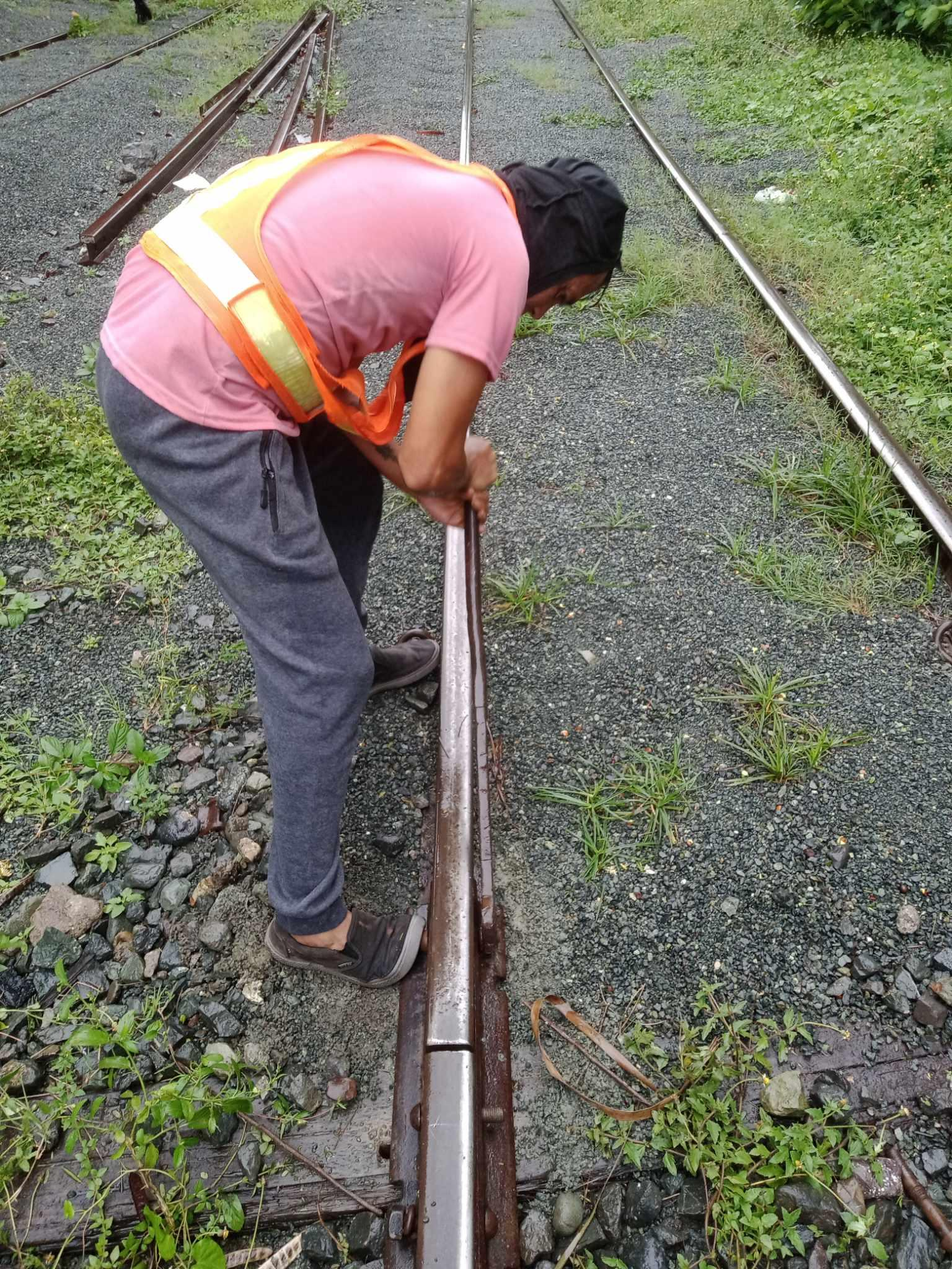railway-gap: (383, 979, 513, 1115)
